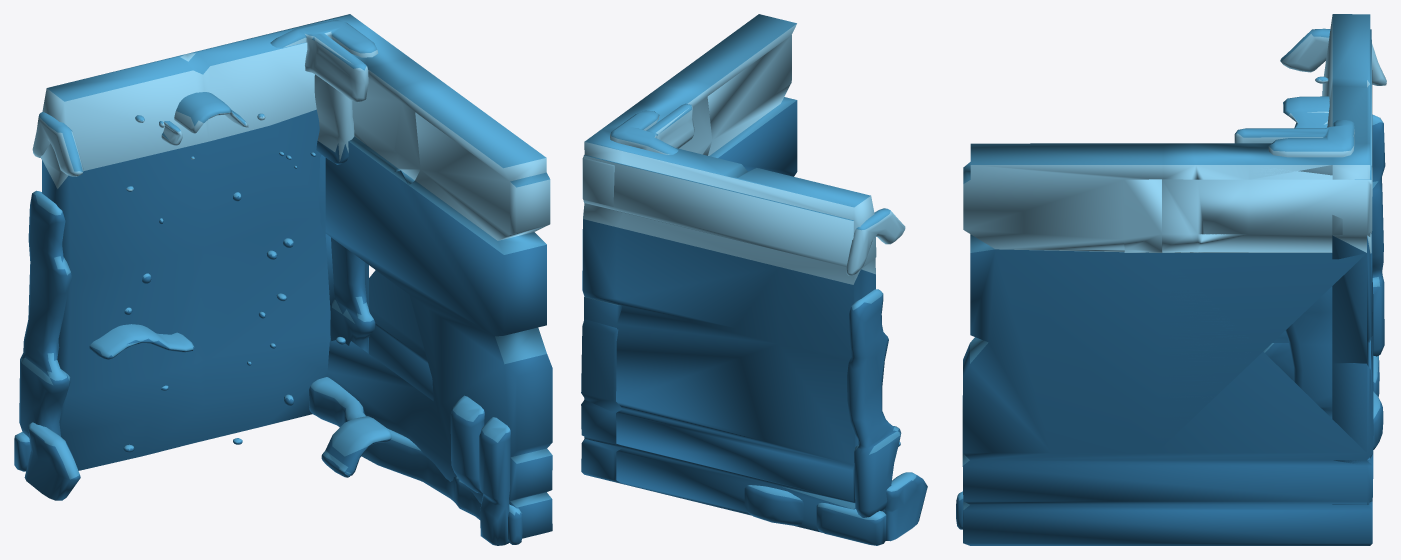
Rendered from SM_bob_map_river_channel.fbx.
3 renders of one model, left to right at view 1: azimuth 30°, elevation 25°; view 2: azimuth 150°, elevation 25°; view 3: azimuth 270°, elevation 25°, orthographic. The views are drawn at different scales.
Visible parts, largest first — view 1: SM_bob_map_river_channel; view 2: SM_bob_map_river_channel; view 3: SM_bob_map_river_channel.
Part boxes in pixels (<box>): SM_bob_map_river_channel: <box>14,14,552,545</box>; SM_bob_map_river_channel: <box>581,14,927,545</box>; SM_bob_map_river_channel: <box>956,14,1386,545</box>.
Size of the model in its own units: 32.5 by 35 by 35.
Materials: 1 (1 with a texture image).
